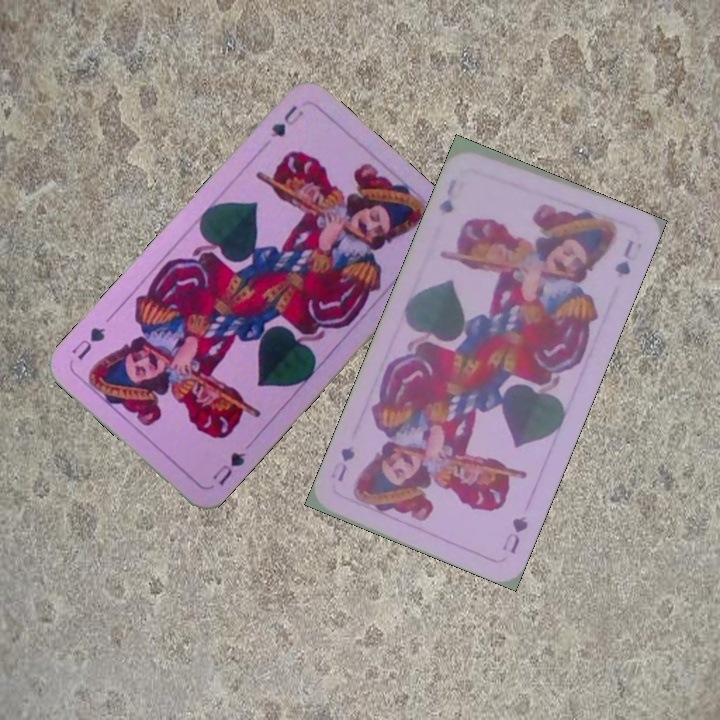GU: (208, 448, 249, 489), (266, 101, 306, 140), (498, 511, 531, 557), (435, 174, 461, 218)
